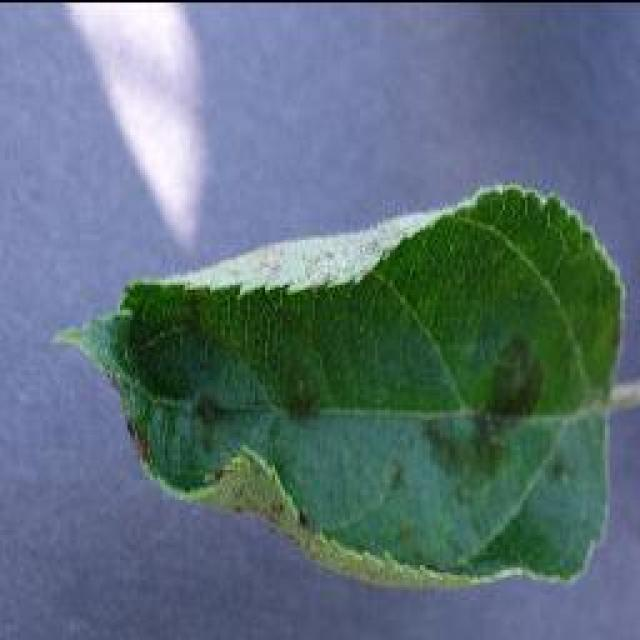apple scab disease: (55, 178, 635, 590)
